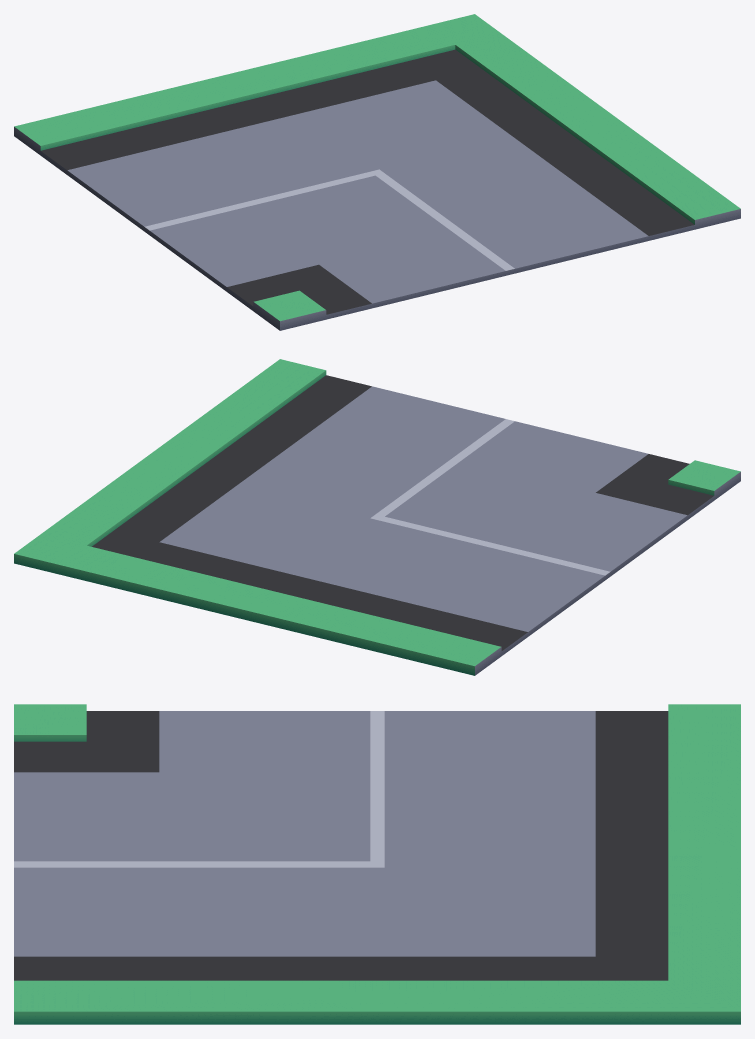
File: road_bend_square.glb
3 views of the same model, one above another, from view 1: azimuth 30°, elevation 25°; view 2: azimuth 150°, elevation 25°; view 3: azimuth 270°, elevation 25° (orthographic). The views are drawn at different scales.
Parts seen in each view (by area): view 1: road-bend-square; view 2: road-bend-square; view 3: road-bend-square.
Part boxes in pixels (bbox=[...]): road-bend-square: bbox=[14, 14, 740, 330]; road-bend-square: bbox=[14, 359, 740, 675]; road-bend-square: bbox=[14, 704, 740, 1024].
Size of the model in its own units: 1 by 0.02 by 1.
Materials: 1 (1 with a texture image).
